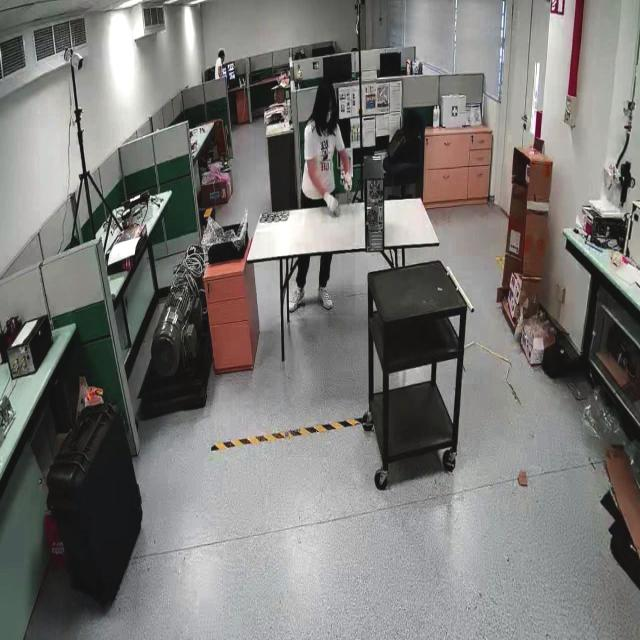hand_glove: (321, 188, 339, 224), (340, 168, 358, 199)
head_nohelmet: (316, 79, 336, 99), (219, 48, 225, 54)
person: (289, 78, 355, 316)
shoes: (286, 281, 308, 317), (316, 284, 334, 310)
